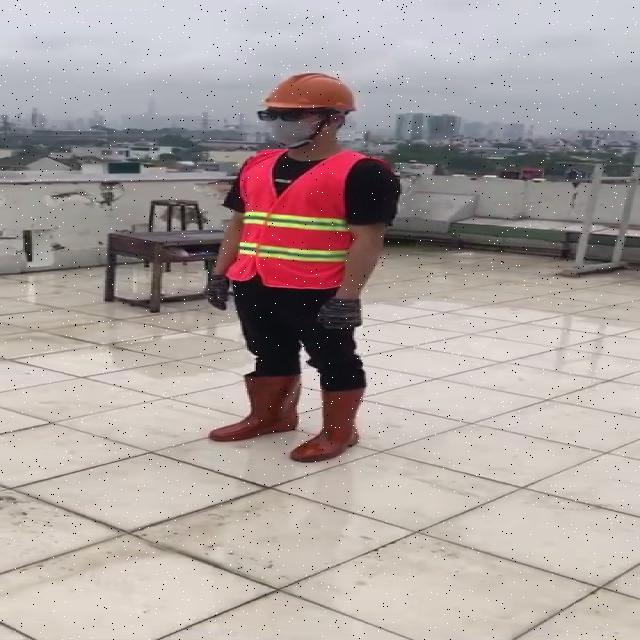Hard_hat: (251, 69, 364, 123)
Vest: (235, 144, 355, 289)
